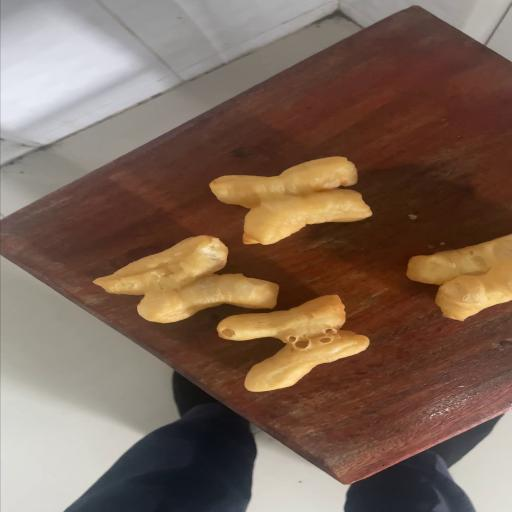street_golden_defect: (213, 297, 370, 391)
street_golden_good: (95, 235, 278, 323), (210, 156, 371, 244), (402, 235, 512, 320)
